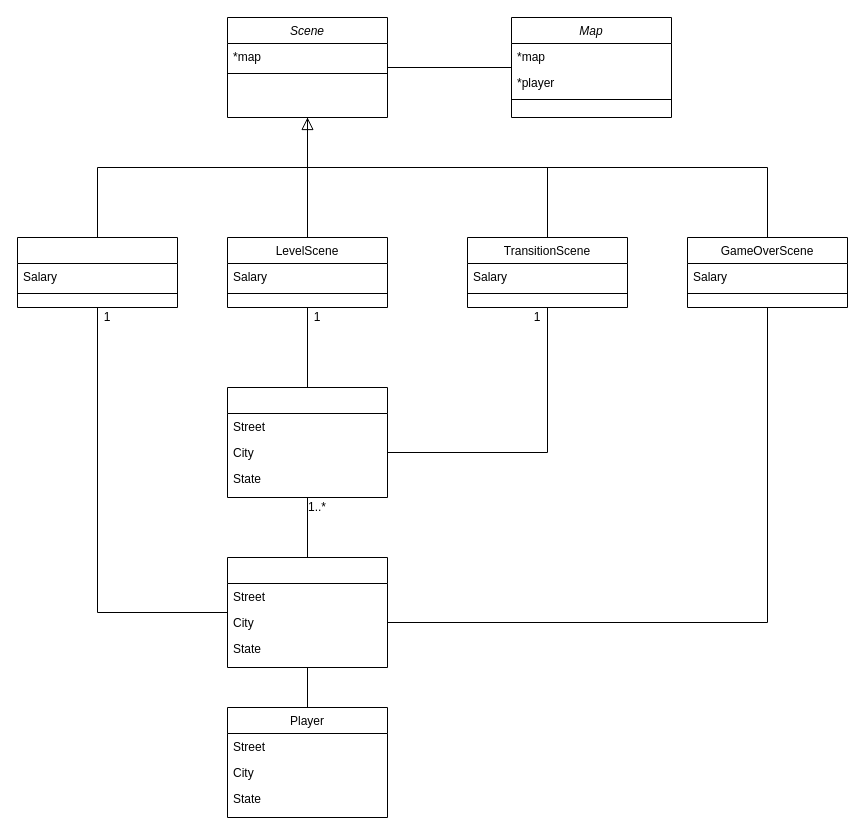
The diagram is 865 pixels wide and 835 high, and some of its shapes have lost their labels. Each missing label, with the box of its shape:
Game: (226, 556, 388, 668)
Level: (226, 386, 388, 498)
MenuScene: (16, 236, 178, 308)
